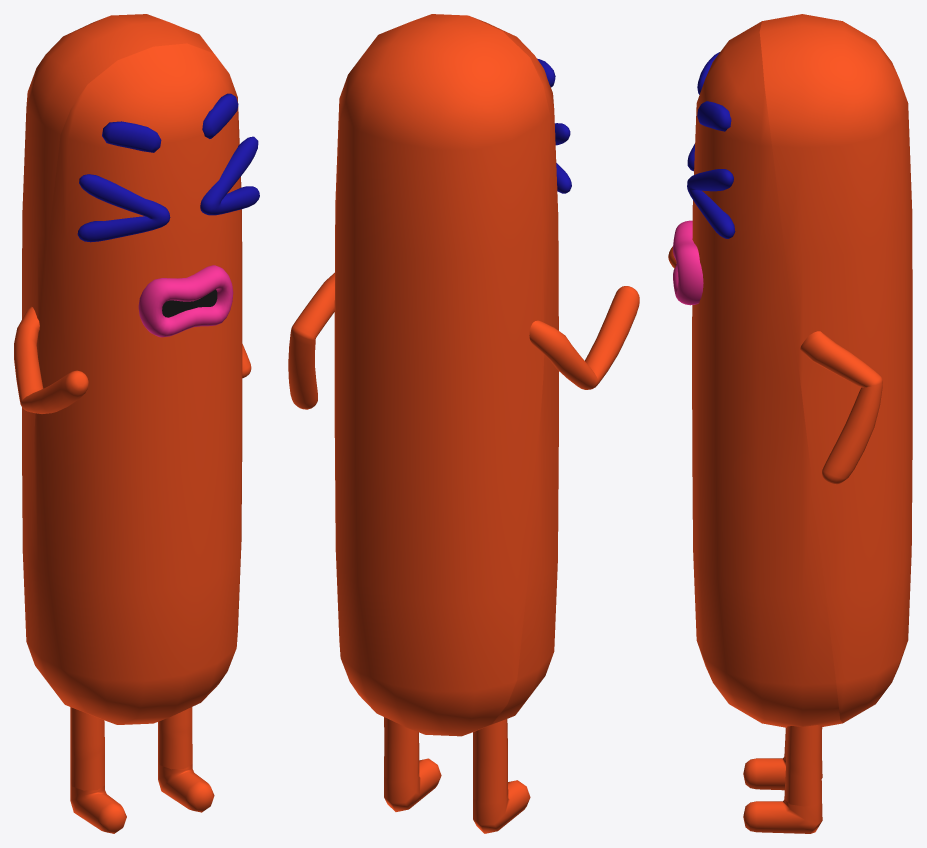
Rendered from New base cut doc.fbx.
The picture shows the model from 3 angles, left to right: view 1: azimuth 30°, elevation 25°; view 2: azimuth 150°, elevation 25°; view 3: azimuth 270°, elevation 25°; orthographic projection.
Parts seen in each view (by area): view 1: polySurface16203, handd, face2; view 2: handd, polySurface16203, face2; view 3: handd, polySurface16203, face2.
Boxes of the visible parts, <box> form: polySurface16203: <box>29,43,242,833</box>; handd: <box>14,14,251,668</box>; face2: <box>77,93,259,337</box>; handd: <box>288,14,639,736</box>; polySurface16203: <box>384,17,558,833</box>; face2: <box>537,58,571,193</box>; handd: <box>668,14,912,722</box>; polySurface16203: <box>692,21,842,833</box>; face2: <box>673,52,735,305</box>.
Bounding box in the file's own units: 145 × 410 × 116.
